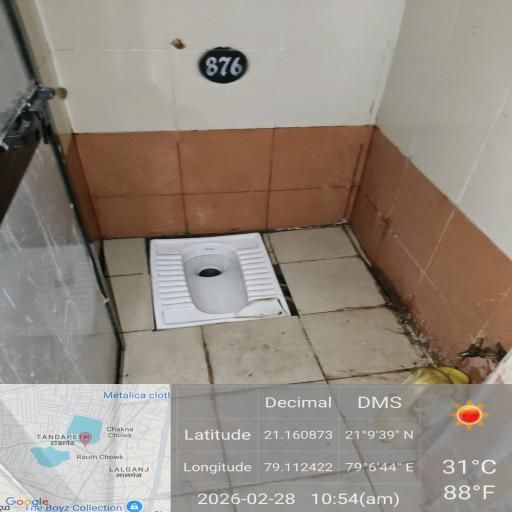clean_floor: (44, 0, 509, 285)
partial_dirty_floor: (108, 296, 456, 393), (0, 183, 94, 375)
